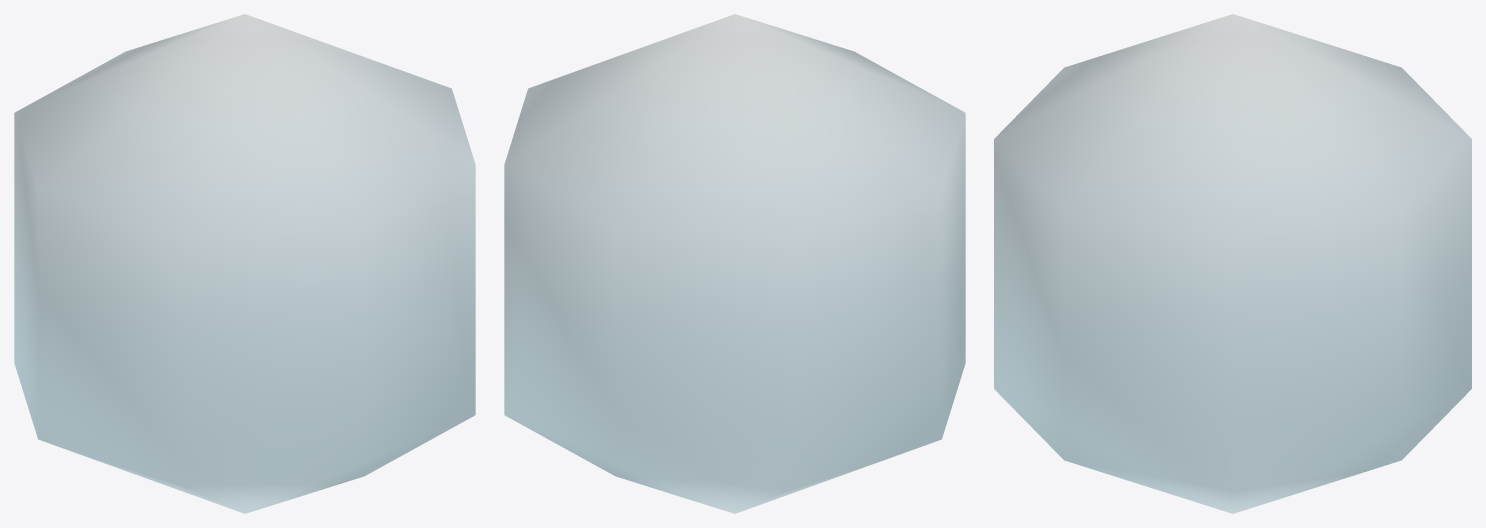
Rendered from droplet.glb.
3 renders of one model, left to right at view 1: azimuth 30°, elevation 25°; view 2: azimuth 150°, elevation 25°; view 3: azimuth 270°, elevation 25°, orthographic.
Bounding box in the file's own units: 1.73 × 2 × 1.73.
